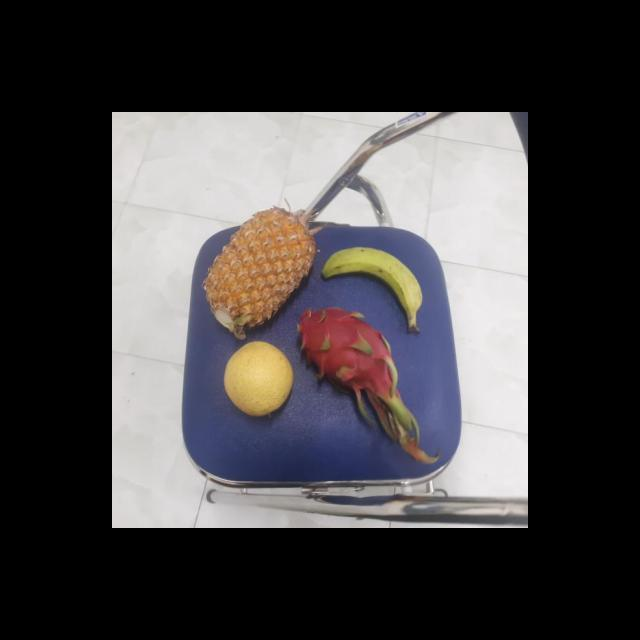banana: (318, 246, 423, 327)
pear: (220, 342, 295, 420)
pineapple: (200, 208, 314, 338)
pitaya: (290, 308, 400, 402)
